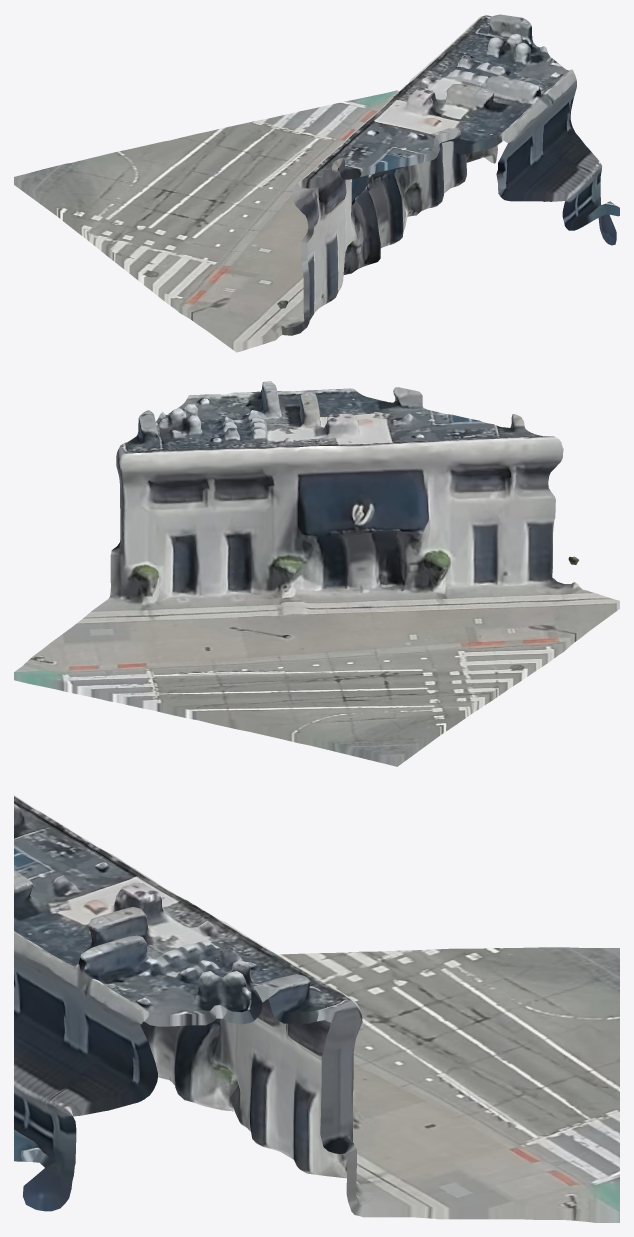
File: z20-167779-405206-h0-yup-uvflip-v3-world.glb
The picture shows the model from 3 angles, top to bottom: view 1: azimuth 30°, elevation 25°; view 2: azimuth 150°, elevation 25°; view 3: azimuth 270°, elevation 25°; orthographic projection. The views are drawn at different scales.
Size of the model in its own units: 30.16 by 13 by 30.32.
Materials: 1 (1 with a texture image).
